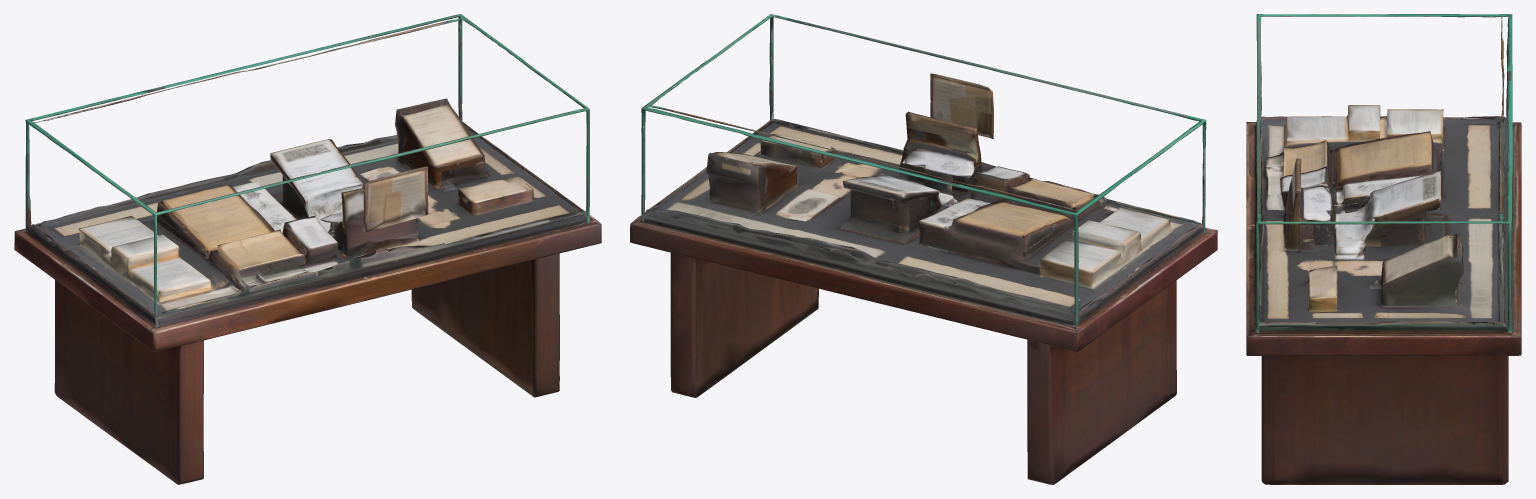
The model's file is displaytable.glb.
3 views of the same model, side by side, from view 1: azimuth 30°, elevation 25°; view 2: azimuth 150°, elevation 25°; view 3: azimuth 270°, elevation 25° (orthographic).
Size of the model in its own units: 2 by 1.2 by 1.08.
Materials: 1 (1 with a texture image).
